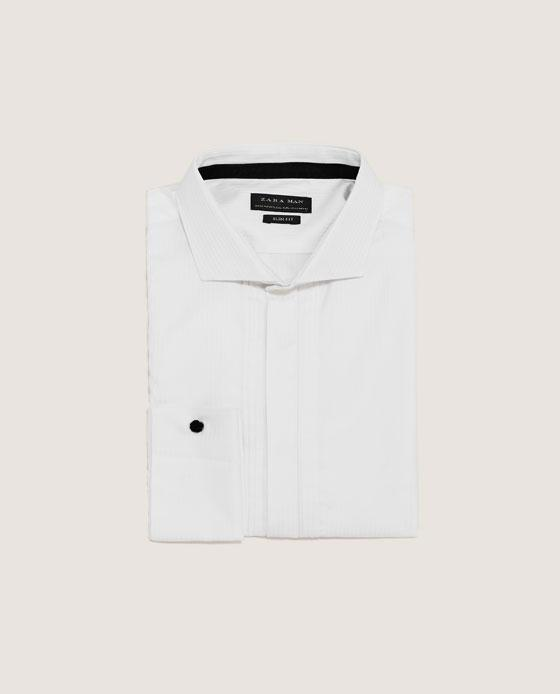teeshirt: (120, 138, 426, 556)
